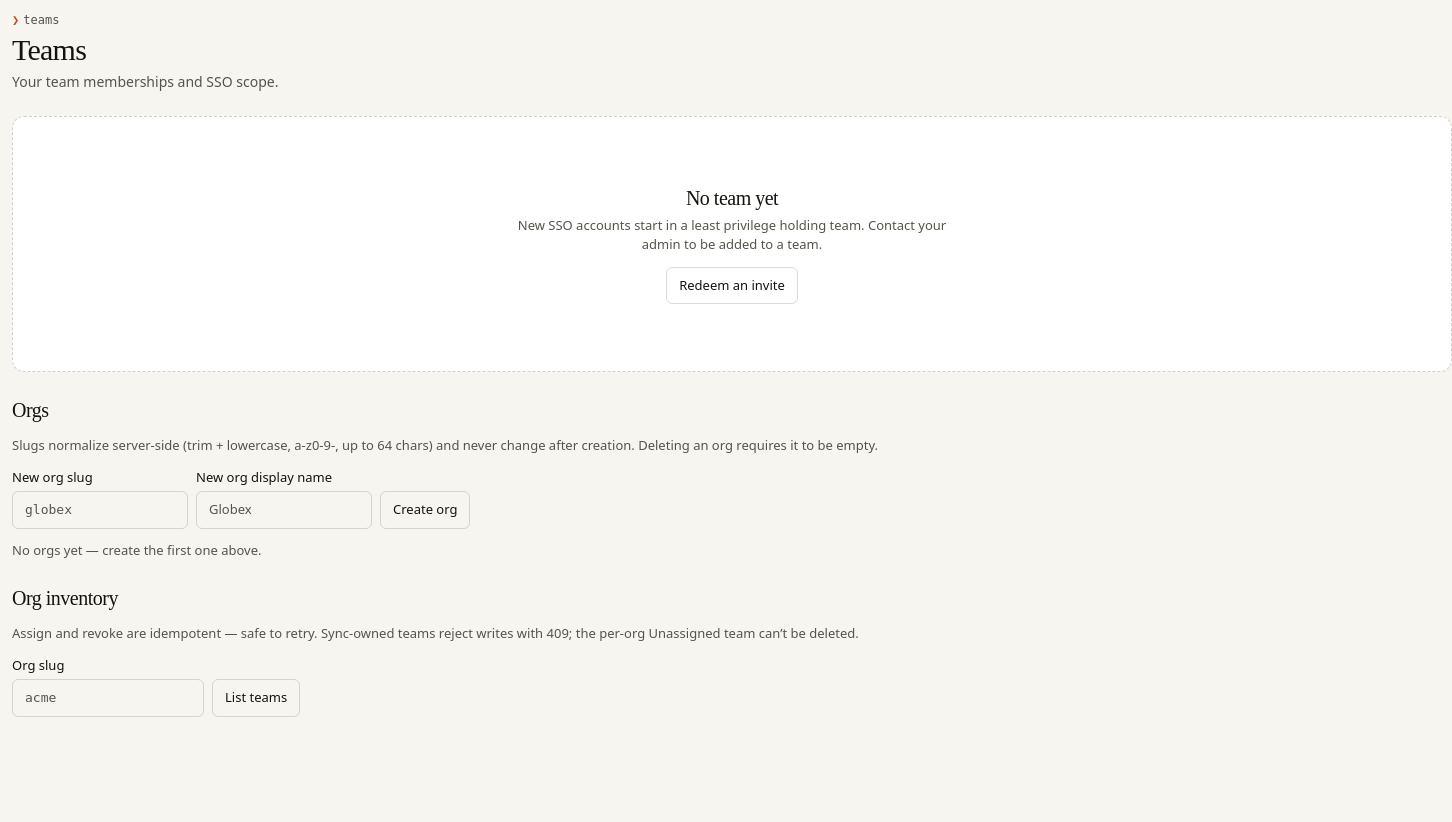
TeamsPage › requires an org slug before listing
The image size is (1452, 822).
Check: the text "No team yet" is shown, box [686,184,778,212]
Click the button "List teams".
click(256, 698)  # box [212,679,300,716]
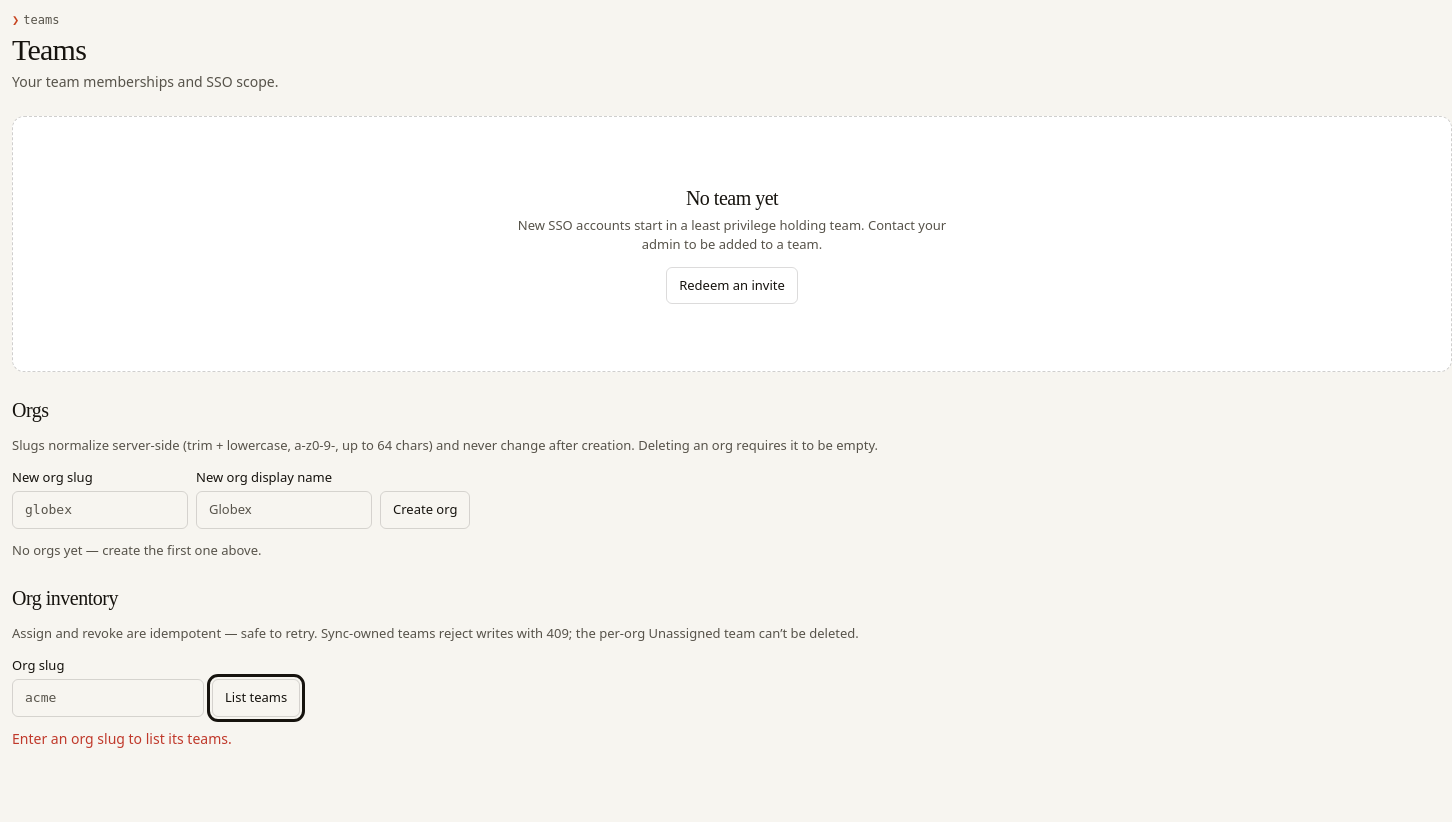
Check: the message "Enter an org slug to list its teams." is shown, box [12,728,232,748]
